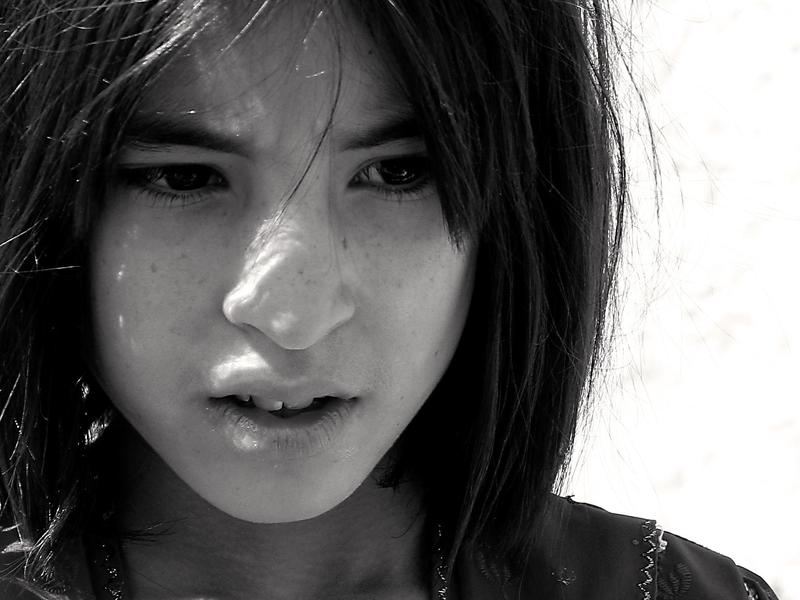person: (25, 3, 750, 600)
